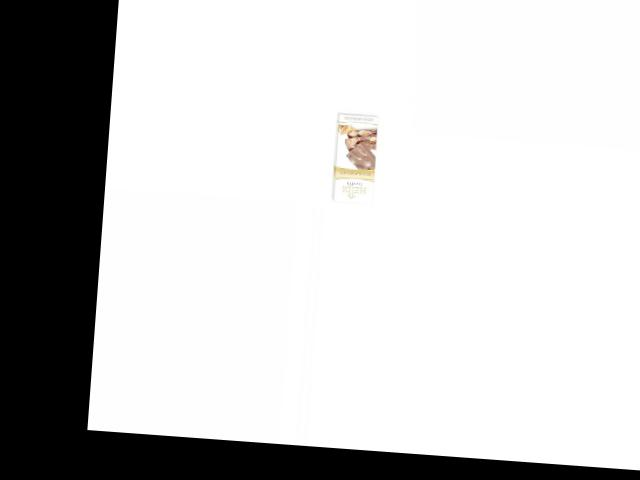chocolate: (323, 113, 388, 210)
